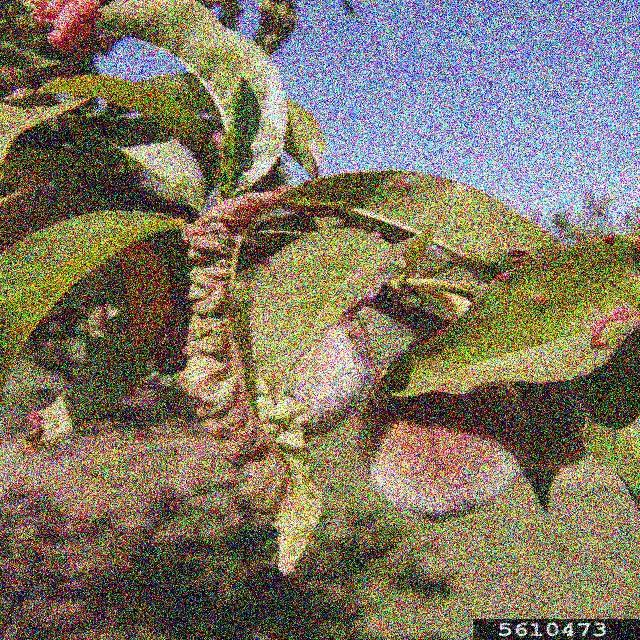leaf_curl: (172, 144, 315, 608)
